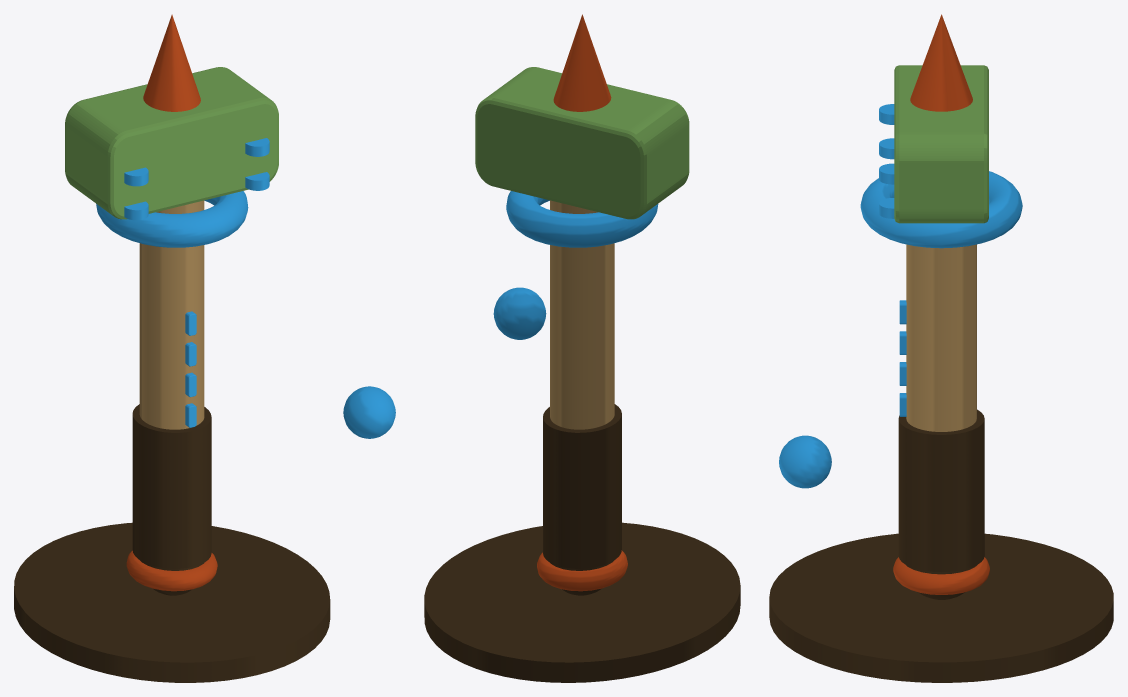
The model's file is 1318_中国古代寓言_弓箭.glb.
The picture shows the model from 3 angles, left to right: view 1: azimuth 30°, elevation 25°; view 2: azimuth 150°, elevation 25°; view 3: azimuth 270°, elevation 25°; orthographic projection.
Visible parts, largest first — view 1: card_1318; view 2: card_1318; view 3: card_1318.
Part boxes in pixels (x1,y1,x2,y2): card_1318: (14, 14, 395, 682); card_1318: (424, 14, 740, 682); card_1318: (769, 14, 1113, 682).
Size of the model in its own units: 0.4996 by 1 by 0.5168.
